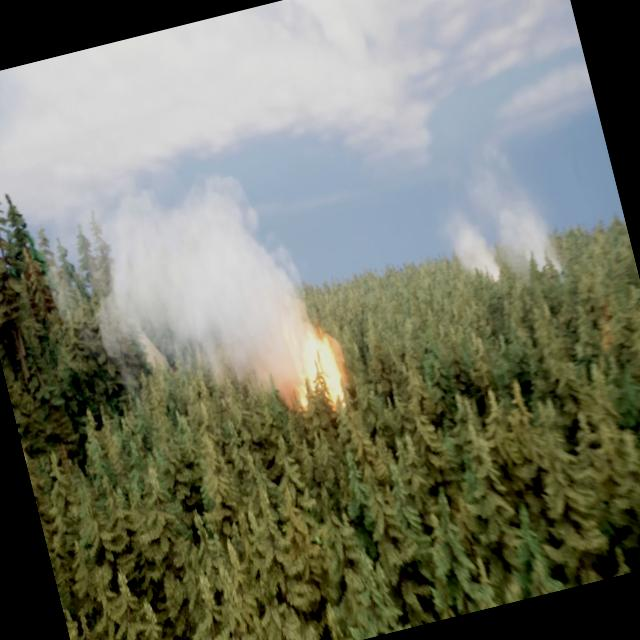fire: (272, 328, 352, 424)
smoke: (68, 143, 336, 434), (429, 146, 567, 298)
